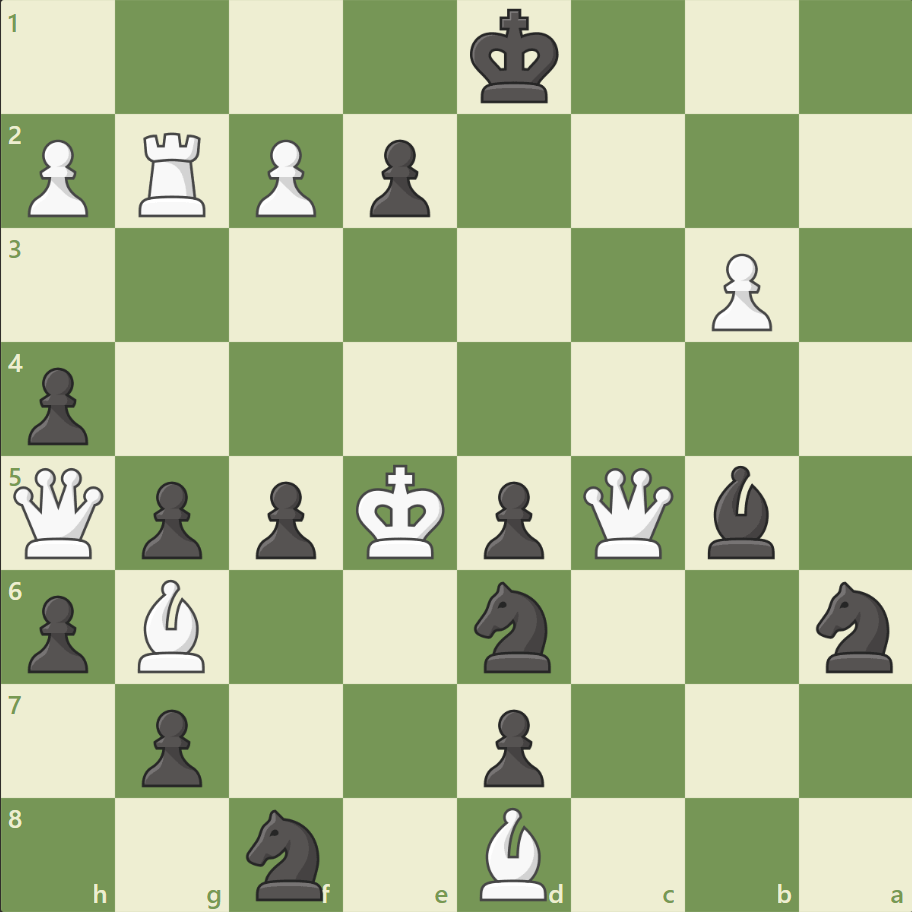B: (471, 801, 555, 904), (131, 574, 215, 676)
K: (351, 458, 451, 566)
P: (701, 246, 776, 337), (247, 132, 322, 223), (20, 132, 95, 223)
Q: (578, 463, 677, 562), (10, 463, 109, 562)
R: (133, 125, 215, 222)
b: (698, 460, 782, 563)
k: (465, 4, 565, 112)
n: (238, 802, 335, 904), (806, 575, 903, 677), (465, 575, 562, 677)
p: (474, 700, 549, 791), (133, 700, 208, 791), (20, 586, 95, 677), (474, 473, 549, 564), (247, 473, 322, 564), (133, 473, 208, 564), (20, 359, 95, 450), (361, 132, 435, 223)
